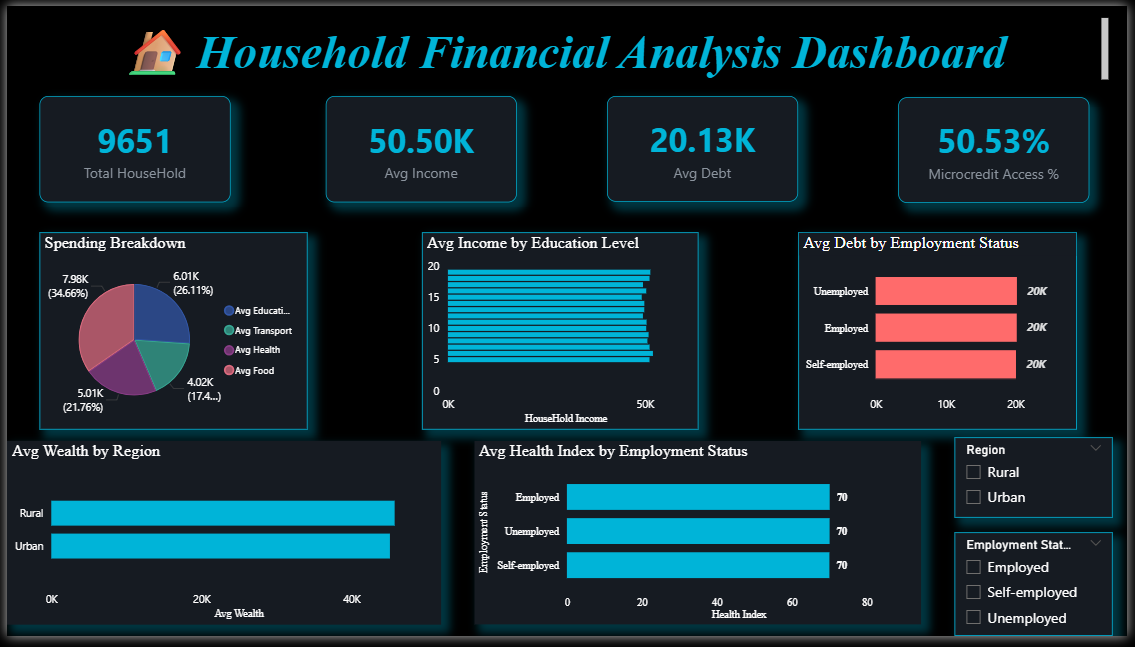

The dashboard page shown, as its layout file describes it:
{"tool":"powerbi","page":{"name":"Page 1","canvas":[1280,720],"ordinal":0},"visuals":[{"type":"card","fields":{"Values":["CountNonNull(household_clean.age)"]},"box":[37.4,102.5,218.4,121.9],"z":0},{"type":"card","fields":{"Values":["Avg(household_clean.household_income)"]},"box":[364.3,102.5,218.4,121.9],"z":1000},{"type":"card","fields":{"Values":["Avg(household_clean.debt)"]},"box":[685.3,102.5,218.4,120.6],"z":2000},{"type":"card","fields":{"Values":["Avg(household_clean.microcredit_access)"]},"box":[1018.2,103.8,218.4,120.6],"z":3000},{"type":"textbox","box":[16.9,0,1246.3,89.3],"z":4000},{"type":"barChart","title":"Avg Income by Education Level","fields":{"Category":["household_clean.education_years"],"Y":["Avg(household_clean.household_income)"]},"box":[474.1,258.2,316.1,225.6],"z":5000},{"type":"clusteredBarChart","title":"Avg Debt by Employment Status","fields":{"Category":["household_clean.employment_status"],"Y":["Avg(household_clean.debt)"]},"box":[903.6,258.2,318.5,225.6],"z":6000},{"type":"pieChart","title":"Spending Breakdown","fields":{"Y":["household_clean.Avg Education","household_clean.Avg Transport","household_clean.Avg Health","household_clean.Avg Food"]},"box":[37.4,258.2,306.4,225.6],"z":7000},{"type":"clusteredBarChart","title":"Avg Wealth by Region","fields":{"Category":["household_clean.region"],"Y":["Avg(household_clean.wealth)"]},"box":[0,497.1,495.8,209.9],"z":8000},{"type":"slicer","fields":{"Values":["household_clean.region"]},"box":[1082.2,493.4,181,91.7],"z":9000},{"type":"slicer","fields":{"Values":["household_clean.employment_status"]},"box":[1082.2,602,181,118.2],"z":10000},{"type":"clusteredBarChart","title":"Avg Health Index by Employment Status","fields":{"Category":["household_clean.employment_status"],"Y":["Avg(household_clean.health_index)"]},"box":[534.5,497.1,510.3,209.9],"z":10001}]}

Visuals, with their boxes in screenshot pixels (x1, y1, x2, y2), scaled from the page's 1280x720 canvas onto the 1135x647 screenshot:
card - CountNonNull(household_clean.age): left=33, top=92, right=227, bottom=202
card - Avg(household_clean.household_income): left=323, top=92, right=517, bottom=202
card - Avg(household_clean.debt): left=608, top=92, right=801, bottom=200
card - Avg(household_clean.microcredit_access): left=903, top=93, right=1097, bottom=202
textbox: left=15, top=0, right=1120, bottom=80
"Avg Income by Education Level" barChart: left=420, top=232, right=701, bottom=435
"Avg Debt by Employment Status" clusteredBarChart: left=801, top=232, right=1084, bottom=435
"Spending Breakdown" pieChart: left=33, top=232, right=305, bottom=435
"Avg Wealth by Region" clusteredBarChart: left=0, top=447, right=440, bottom=635
slicer - household_clean.region: left=960, top=443, right=1120, bottom=526
slicer - household_clean.employment_status: left=960, top=541, right=1120, bottom=646
"Avg Health Index by Employment Status" clusteredBarChart: left=474, top=447, right=926, bottom=635
